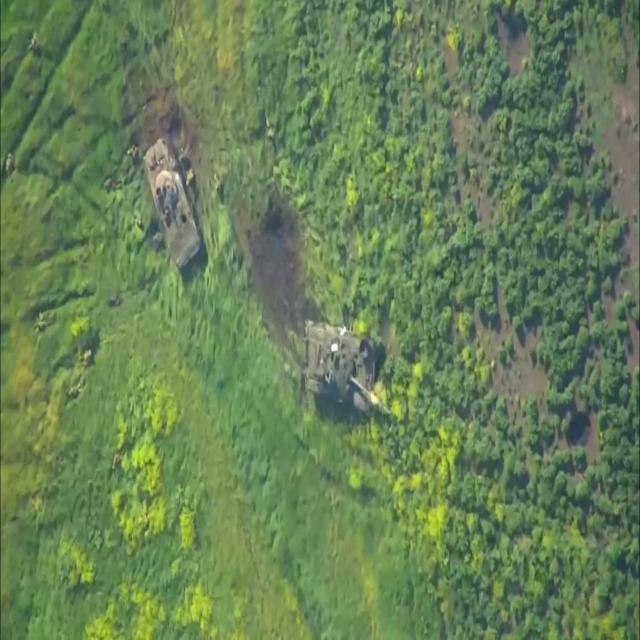AIFV: (143, 133, 204, 291)
MBT: (306, 323, 394, 417)
